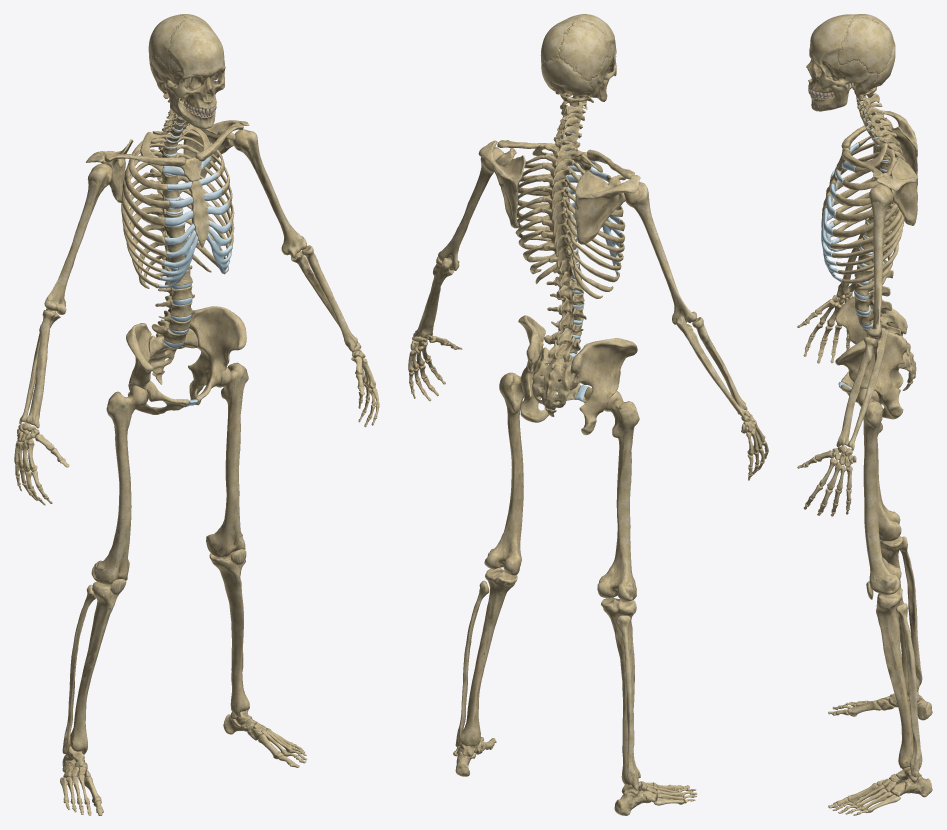
The model's file is bones.glb.
The picture shows the model from 3 angles, left to right: view 1: azimuth 30°, elevation 25°; view 2: azimuth 150°, elevation 25°; view 3: azimuth 270°, elevation 25°; orthographic projection. The views are drawn at different scales.
Parts seen in each view (by area): view 1: Cranium_m, Rib_Cage_r, Femur_r, Femur_l, Pelvis_l, Tibia_l, Tibia_r, Rib_Cage_l, Humerus_r, Costal_Cartilage_r, Pelvis_r, Humerus_l (+16 smaller); view 2: Cranium_m, Femur_r, Femur_l, Pelvis_r, Thoracic_m, Scapula_r, Rib_Cage_r, Rib_Cage_l, Tibia_l, Lumbar_m, Tibia_r, Sacrum_m (+14 smaller); view 3: Cranium_m, Rib_Cage_l, Femur_l, Tibia_l, Pelvis_l, Foot_l, Humerus_l, Hand_l, Scapula_l, Fibula_l, Pelvis_r, Lumbar_m (+18 smaller).
Part boxes in pixels (left/top/right/bottom): Cranium_m: left=148, top=14, right=225, bottom=109; Rib_Cage_r: left=121, top=132, right=170, bottom=288; Femur_r: left=91, top=385, right=148, bottom=584; Femur_l: left=206, top=362, right=248, bottom=557; Pelvis_l: left=188, top=306, right=246, bottom=405; Tibia_l: left=209, top=552, right=249, bottom=716; Tibia_r: left=70, top=581, right=118, bottom=754; Rib_Cage_l: left=176, top=124, right=234, bottom=272; Humerus_r: left=44, top=163, right=112, bottom=314; Costal_Cartilage_r: left=158, top=166, right=198, bottom=288; Pelvis_r: left=126, top=323, right=189, bottom=414; Humerus_l: left=232, top=129, right=306, bottom=258; Cranium_m: left=540, top=14, right=616, bottom=96; Femur_r: left=597, top=391, right=639, bottom=601; Femur_l: left=484, top=372, right=524, bottom=575; Pelvis_r: left=570, top=338, right=637, bottom=435; Thoracic_m: left=540, top=144, right=580, bottom=287; Scapula_r: left=575, top=171, right=640, bottom=244; Rib_Cage_r: left=564, top=150, right=625, bottom=298; Rib_Cage_l: left=515, top=144, right=556, bottom=284; Tibia_l: left=460, top=567, right=517, bottom=746; Lumbar_m: left=544, top=276, right=586, bottom=362; Tibia_r: left=601, top=597, right=640, bottom=785; Sacrum_m: left=532, top=347, right=579, bottom=410; Cranium_m: left=806, top=14, right=895, bottom=95; Rib_Cage_l: left=830, top=139, right=904, bottom=292; Femur_l: left=857, top=388, right=901, bottom=594; Tibia_l: left=876, top=588, right=913, bottom=769; Pelvis_l: left=835, top=331, right=907, bottom=419; Foot_l: left=828, top=766, right=932, bottom=815; Humerus_l: left=867, top=184, right=892, bottom=339; Hand_l: left=797, top=445, right=856, bottom=516; Scapula_l: left=871, top=158, right=917, bottom=225; Fibula_l: left=896, top=603, right=922, bottom=777; Pelvis_r: left=835, top=293, right=907, bottom=388; Lumbar_m: left=854, top=264, right=900, bottom=336.
Bounding box in the file's own units: 0.8061 × 1.68 × 0.2772.
1 material, 1 textured.
